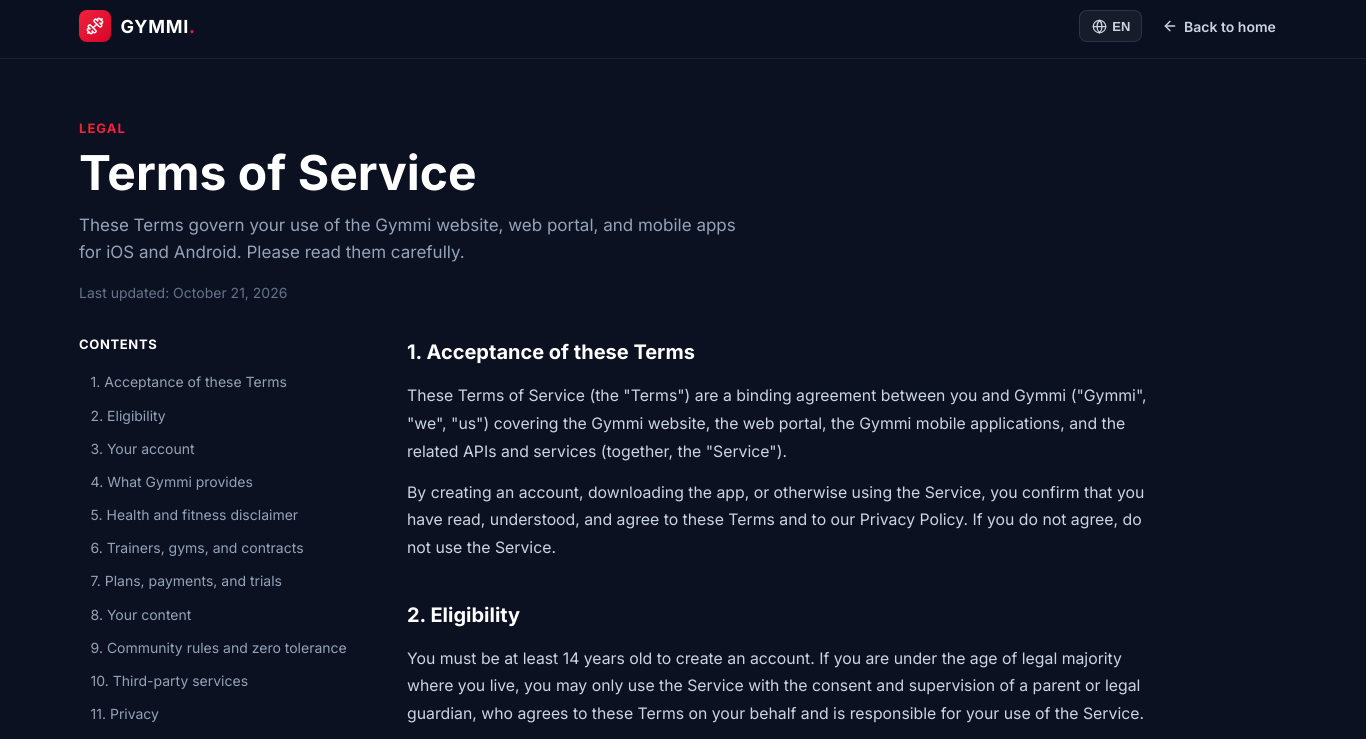
Test case: TermsPage › switches the terms to Spanish
The width and height of the screenshot is (1366, 739).
Click the button "EN".
click(1111, 26)  # box [1079,10,1142,42]
(page scrolled)
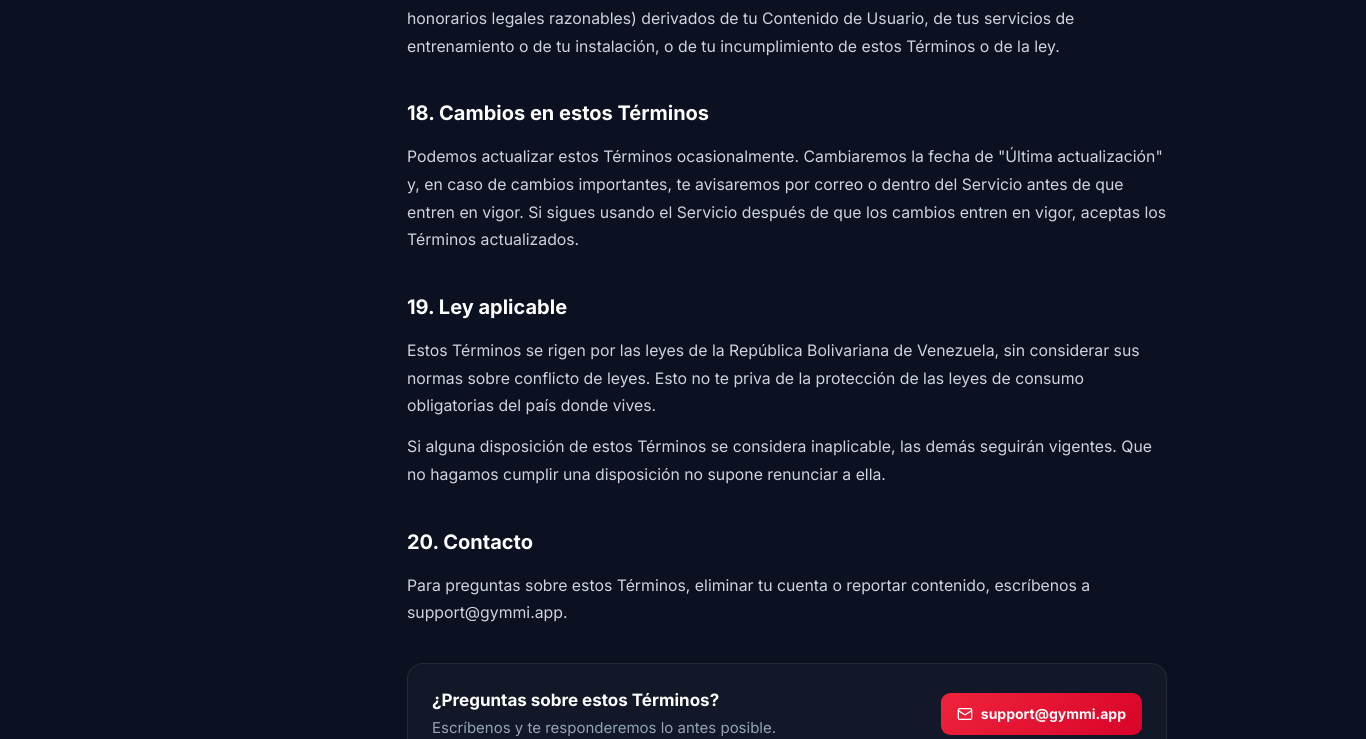
Expected: the text "la República Bolivariana de Venezuela" is shown, [407,341,1140,415]
